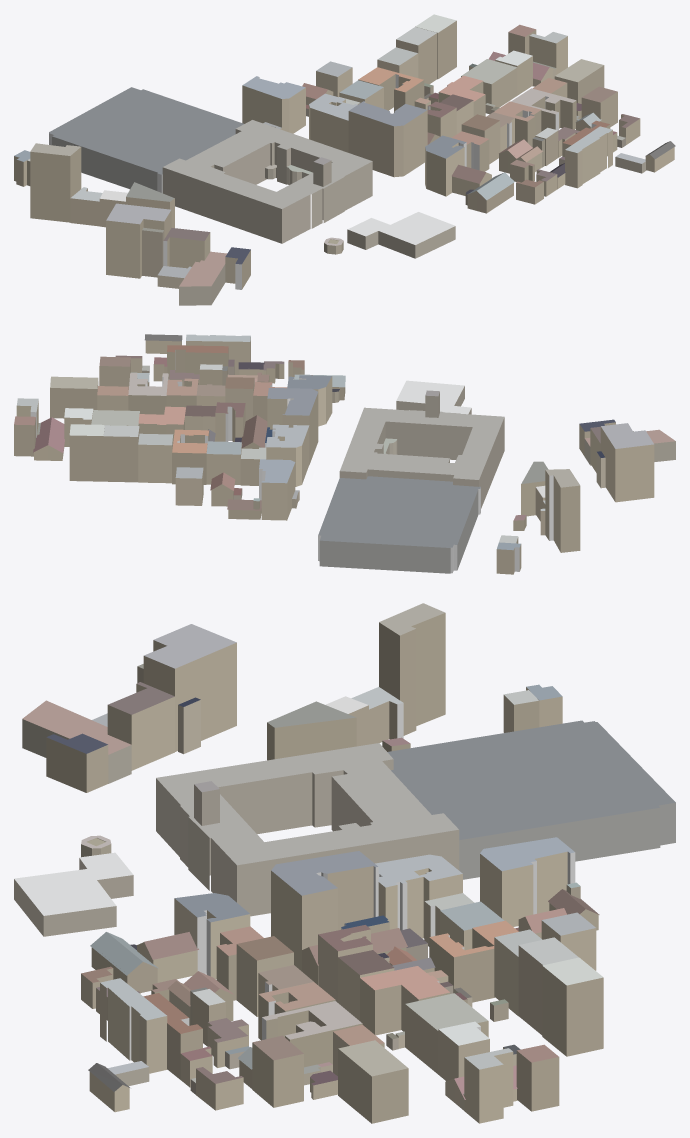
3 views of the same model, one above another, from view 1: azimuth 30°, elevation 25°; view 2: azimuth 150°, elevation 25°; view 3: azimuth 270°, elevation 25° (orthographic). The views are drawn at different scales.
Visible parts, largest first — view 1: tuile; view 2: tuile; view 3: tuile.
Boxes of the visible parts, box(x1,y1,x2,y2) form: tuile: box(14, 14, 675, 305); tuile: box(14, 334, 675, 574); tuile: box(14, 603, 675, 1123).
Size of the model in its own units: 266 by 32.26 by 179.
